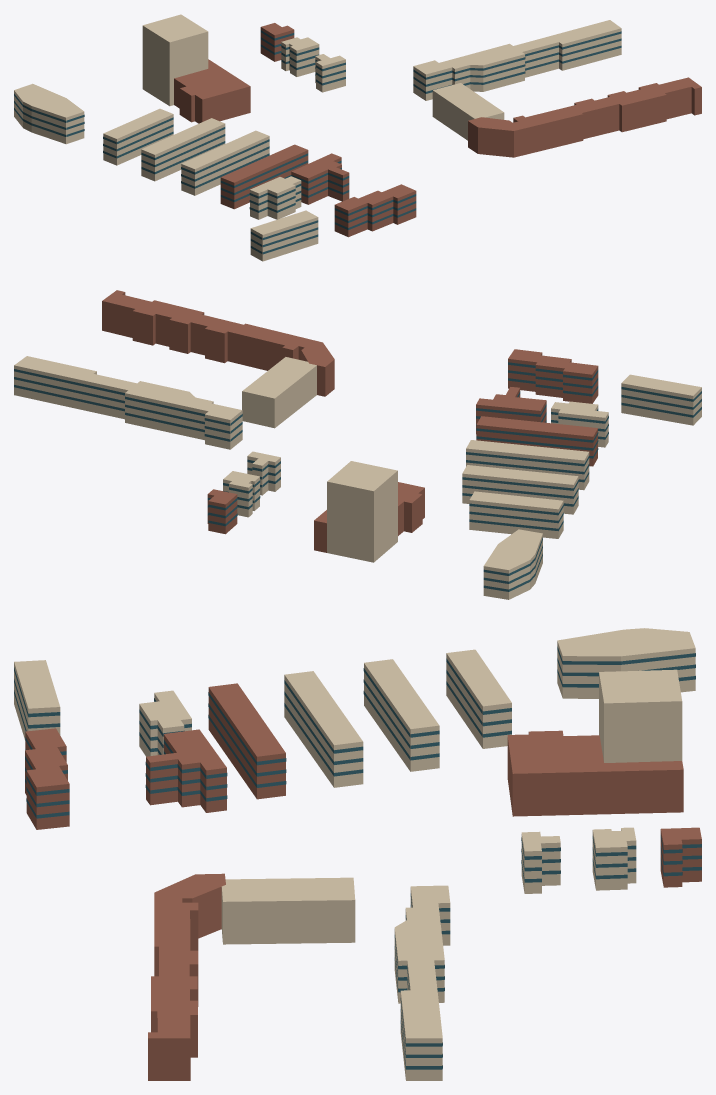
File: city_9_2.glb
3 views of the same model, one above another, from view 1: azimuth 30°, elevation 25°; view 2: azimuth 150°, elevation 25°; view 3: azimuth 270°, elevation 25° (orthographic). The views are drawn at different scales.
Parts seen in each view (by area): view 1: city_9_2; view 2: city_9_2; view 3: city_9_2.
Boxes of the visible parts, box(x1,y1,x2,y2) form: city_9_2: box(14, 14, 701, 261); city_9_2: box(14, 290, 701, 599); city_9_2: box(14, 628, 701, 1080).
Bounding box in the file's own units: 309 × 36 × 219.
